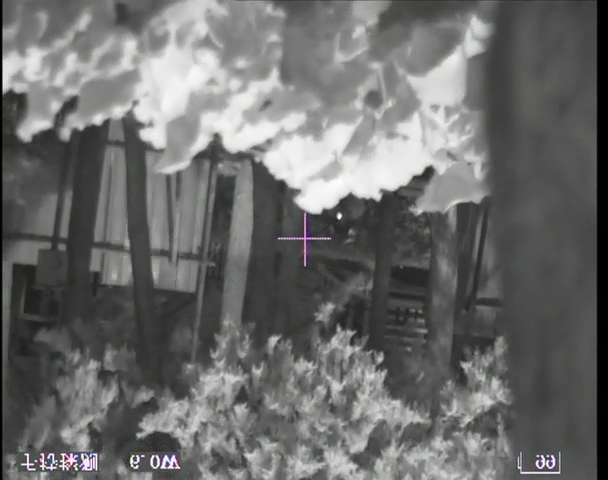my: (335, 212, 344, 222)
